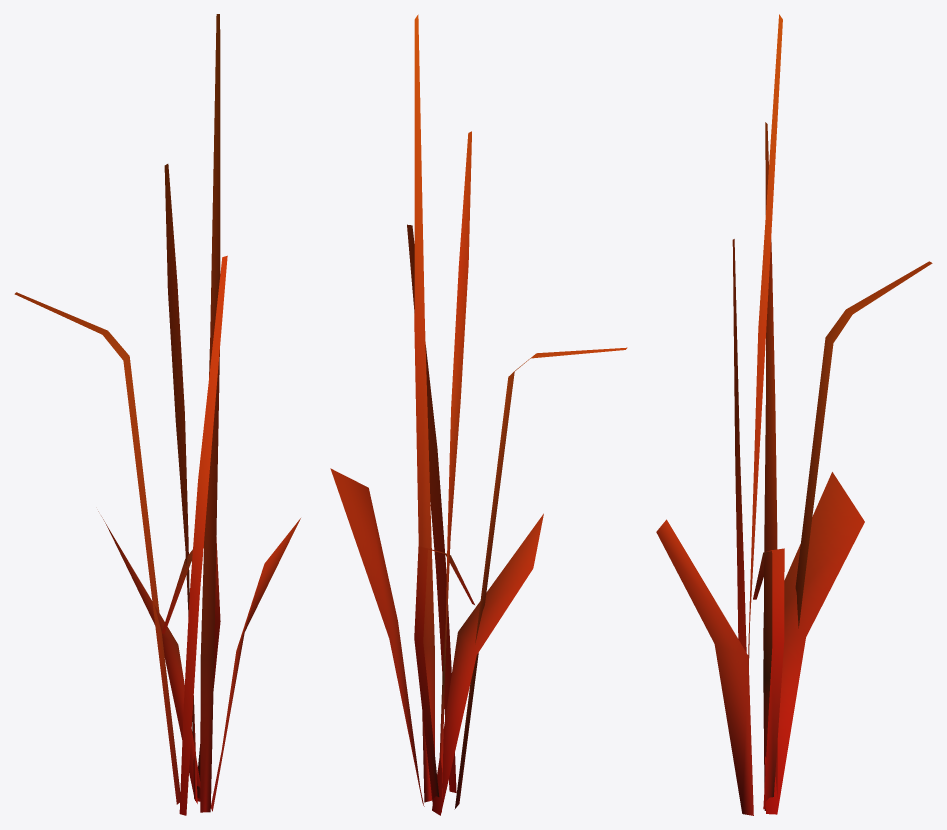
File: SM_RicePlants_9.fbx
3 views of the same model, side by side, from view 1: azimuth 30°, elevation 25°; view 2: azimuth 210°, elevation 25°; view 3: azimuth 270°, elevation 25° (orthographic). The views are drawn at different scales.
Parts seen in each view (by area): view 1: SM_RicePlants_9; view 2: SM_RicePlants_9; view 3: SM_RicePlants_9.
Boxes of the visible parts, x1,y1,x2,y2 form: SM_RicePlants_9: [14, 14, 300, 815]; SM_RicePlants_9: [330, 14, 627, 815]; SM_RicePlants_9: [656, 14, 932, 815].
Size of the model in its own units: 0.2928 by 1.36 by 0.419.
